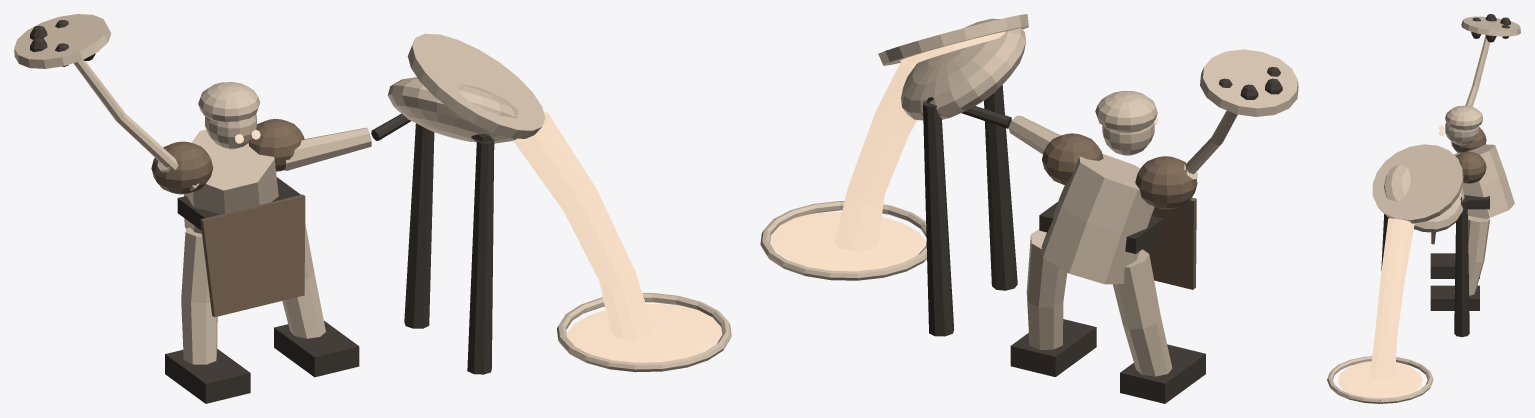
File: boiler.glb
The picture shows the model from 3 angles, left to right: view 1: azimuth 30°, elevation 25°; view 2: azimuth 150°, elevation 25°; view 3: azimuth 270°, elevation 25°; orthographic projection. The views are drawn at different scales.
Visible parts, largest first — view 1: boiler_bone, boiler_dark, boiler_glow, boiler_body; view 2: boiler_bone, boiler_dark, boiler_glow, boiler_body; view 3: boiler_bone, boiler_glow, boiler_dark, boiler_body.
Boxes of the visible parts, x1=… form: boiler_bone: x1=14, y1=14, x2=731, y2=372; boiler_dark: x1=30, y1=20, x2=494, y2=403; boiler_glow: x1=235, y1=112, x2=721, y2=362; boiler_body: x1=151, y1=119, x2=305, y2=316; boiler_bone: x1=760, y1=14, x2=1298, y2=376; boiler_dark: x1=923, y1=67, x2=1282, y2=403; boiler_glow: x1=770, y1=31, x2=1158, y2=271; boiler_body: x1=1042, y1=133, x2=1197, y2=289; boiler_bone: x1=1327, y1=16, x2=1520, y2=403; boiler_glow: x1=1338, y1=125, x2=1444, y2=398; boiler_dark: x1=1381, y1=14, x2=1510, y2=336; boiler_body: x1=1431, y1=127, x2=1486, y2=244.
Size of the model in its own units: 3.65 by 2.1 by 1.67.
